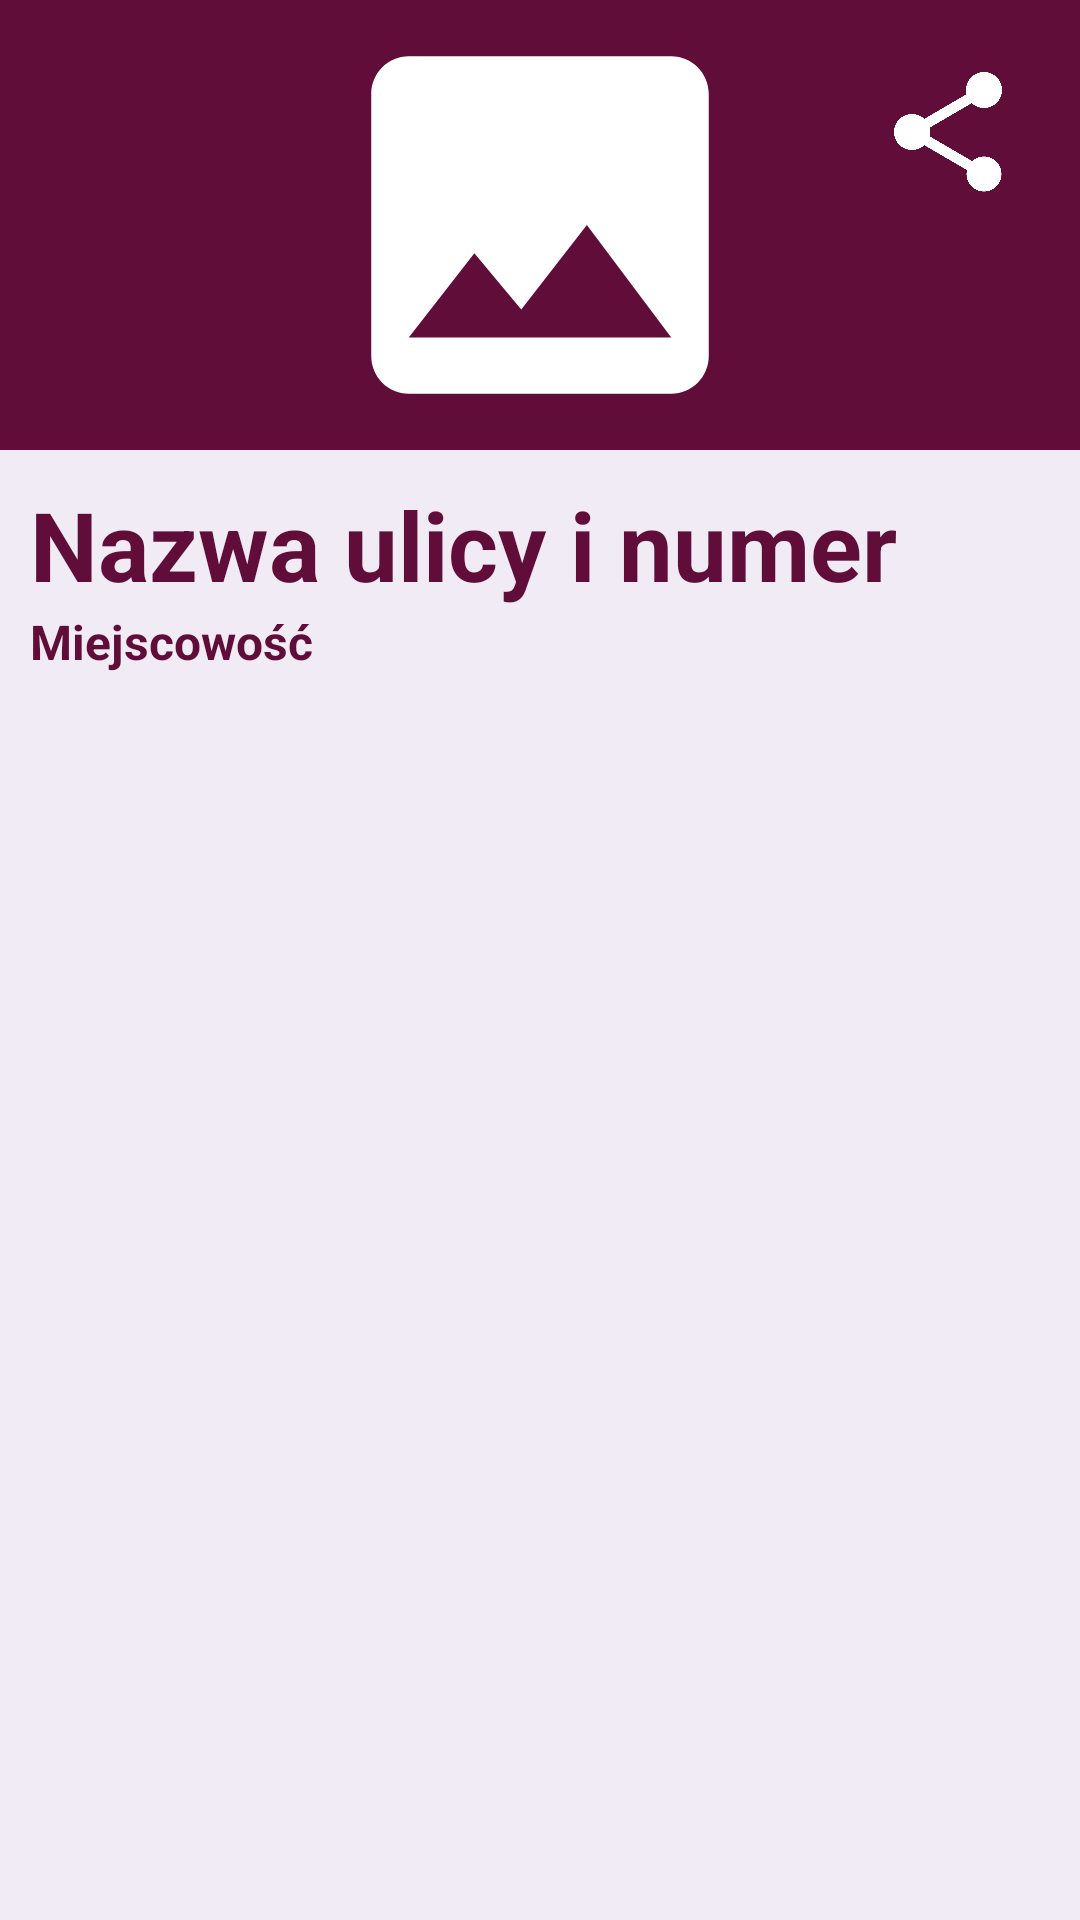

Point at icon controls on the screen. Image size 1080x1920, points as (x=x, y=y).
photo: (x=540, y=225)
share: (x=948, y=132)
